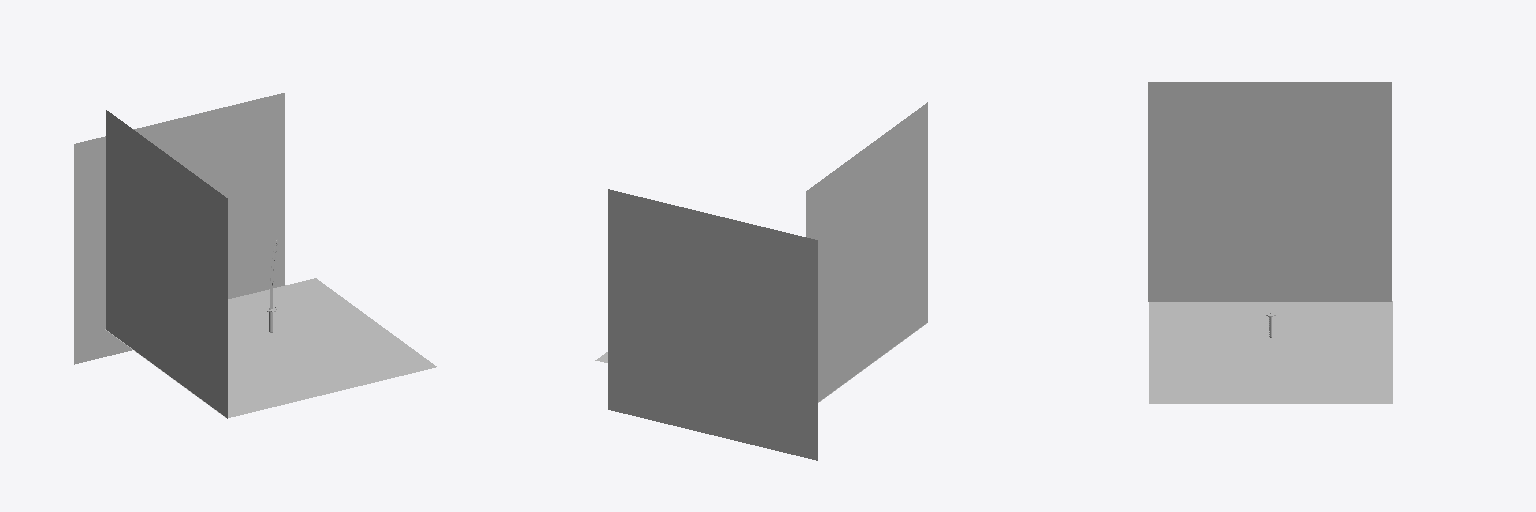
Rendered from my_first_katana_toon.obj.
3 views of the same model, side by side, from view 1: azimuth 30°, elevation 25°; view 2: azimuth 150°, elevation 25°; view 3: azimuth 270°, elevation 25° (orthographic).
Parts seen in each view (by area): view 1: Plane.001_Plane.002, Plane.002_Plane.003, Plane_Plane.001; view 2: Plane.002_Plane.003, Plane.001_Plane.002; view 3: Plane.001_Plane.002, Plane_Plane.001.
Boxes of the visible parts, <box> form: Plane.001_Plane.002: <box>106,110,227,418</box>; Plane.002_Plane.003: <box>74,93,284,364</box>; Plane_Plane.001: <box>105,278,436,417</box>; Plane.002_Plane.003: <box>608,189,817,460</box>; Plane.001_Plane.002: <box>806,102,927,401</box>; Plane.001_Plane.002: <box>1148,82,1391,301</box>; Plane_Plane.001: <box>1149,301,1392,403</box>.
Bounding box in the file's own units: 44.23 × 46.72 × 43.39.